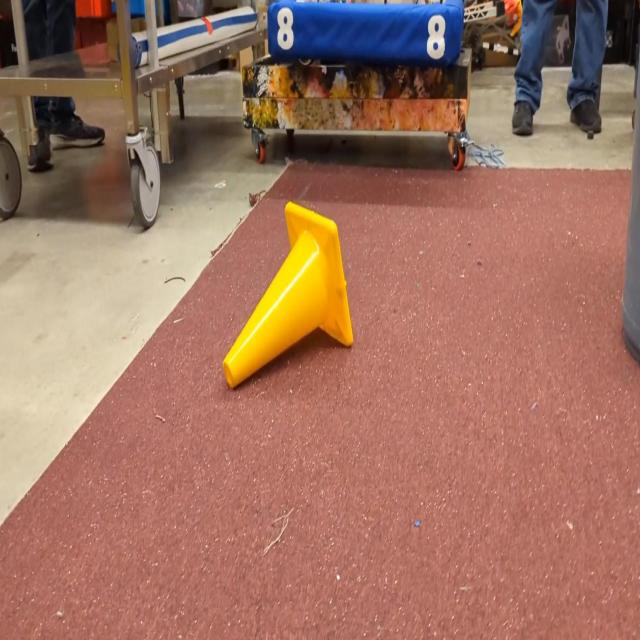frc_cone: (221, 200, 353, 391)
